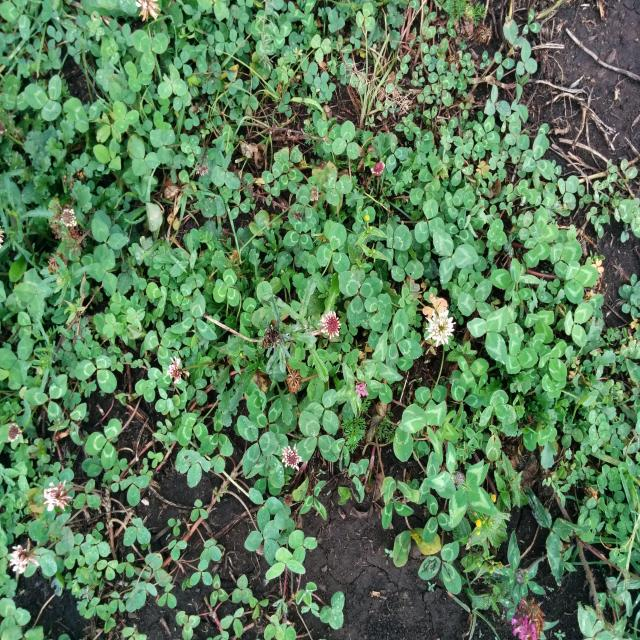Four Leaf Clover: (364, 292, 392, 332)
